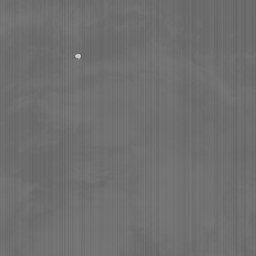Target: (74, 53, 82, 60)
